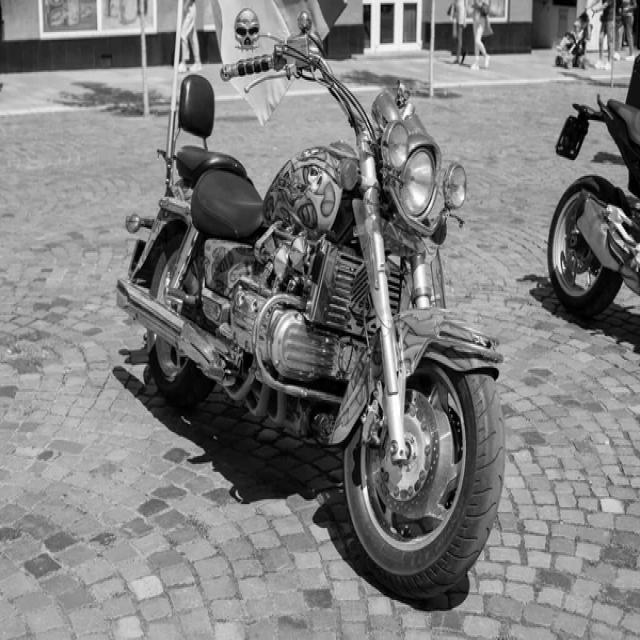Motorcycle: (118, 10, 504, 599), (549, 58, 640, 316)
